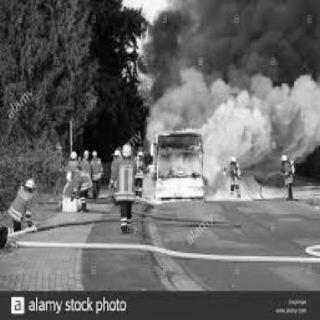Smoke: (134, 2, 314, 160)
